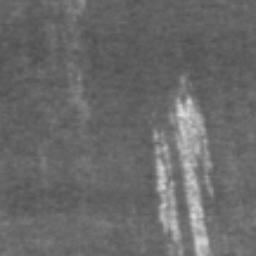White rust: (176, 97, 209, 256), (156, 159, 181, 241)
